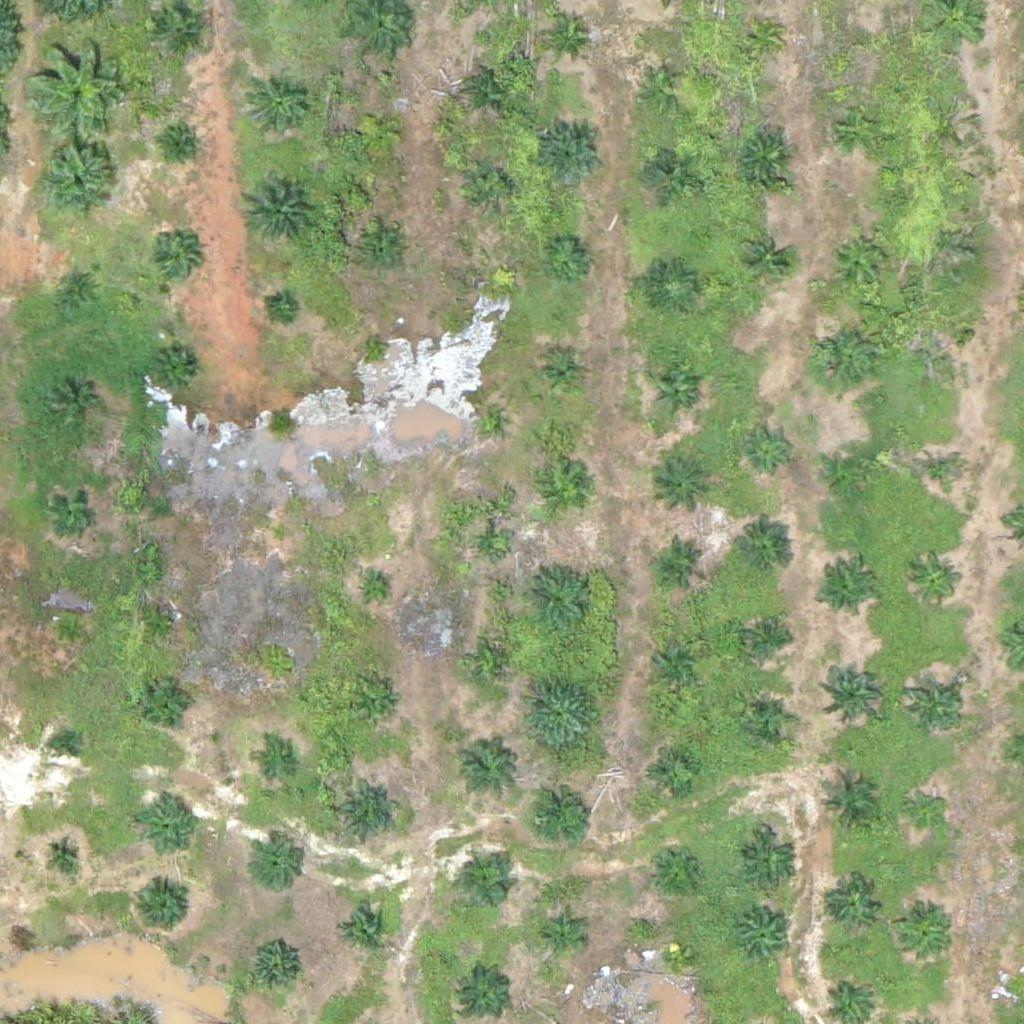Kelapa_Sawit: (27, 36, 127, 137), (34, 137, 122, 225), (519, 561, 594, 637), (523, 779, 598, 855), (523, 675, 598, 751), (240, 173, 315, 249), (452, 734, 515, 797), (737, 830, 800, 893), (337, 780, 400, 843), (653, 454, 716, 517), (811, 325, 874, 388), (540, 123, 603, 186), (732, 523, 795, 586), (816, 561, 878, 624), (817, 774, 879, 837), (904, 675, 966, 738), (820, 658, 882, 721), (248, 75, 310, 138), (131, 877, 193, 940), (135, 795, 197, 858), (735, 127, 797, 190), (829, 228, 891, 291), (734, 909, 796, 971), (910, 554, 960, 605), (251, 839, 301, 890), (248, 940, 298, 991), (339, 904, 389, 955), (141, 676, 191, 727), (647, 262, 697, 313), (645, 144, 695, 195), (465, 66, 515, 117), (541, 9, 591, 60), (466, 160, 516, 211), (354, 106, 404, 157), (542, 233, 592, 284), (740, 233, 790, 284), (914, 448, 964, 499), (826, 446, 876, 497), (744, 423, 794, 474), (652, 365, 702, 416), (463, 859, 513, 909), (459, 969, 509, 1019), (649, 842, 699, 892), (648, 746, 698, 796), (830, 877, 880, 927), (900, 909, 950, 959), (155, 4, 205, 54), (541, 467, 591, 517), (835, 104, 885, 154), (638, 64, 688, 114), (360, 227, 410, 277), (742, 612, 792, 662), (744, 696, 794, 746), (650, 632, 700, 682), (655, 537, 705, 587), (537, 350, 587, 400), (149, 233, 199, 283), (152, 347, 202, 397), (49, 486, 99, 536), (49, 379, 99, 429), (56, 265, 106, 315), (541, 915, 579, 953), (254, 745, 292, 783), (744, 18, 782, 56), (905, 794, 943, 832), (359, 688, 396, 726), (842, 25, 879, 63), (925, 323, 962, 361), (46, 836, 83, 874), (50, 612, 88, 649), (143, 606, 180, 644), (269, 296, 294, 322), (481, 652, 506, 678), (474, 407, 499, 432), (479, 535, 504, 560), (362, 578, 387, 603), (362, 334, 387, 359), (662, 943, 687, 968), (52, 733, 77, 758), (170, 132, 195, 157), (268, 523, 293, 548)
